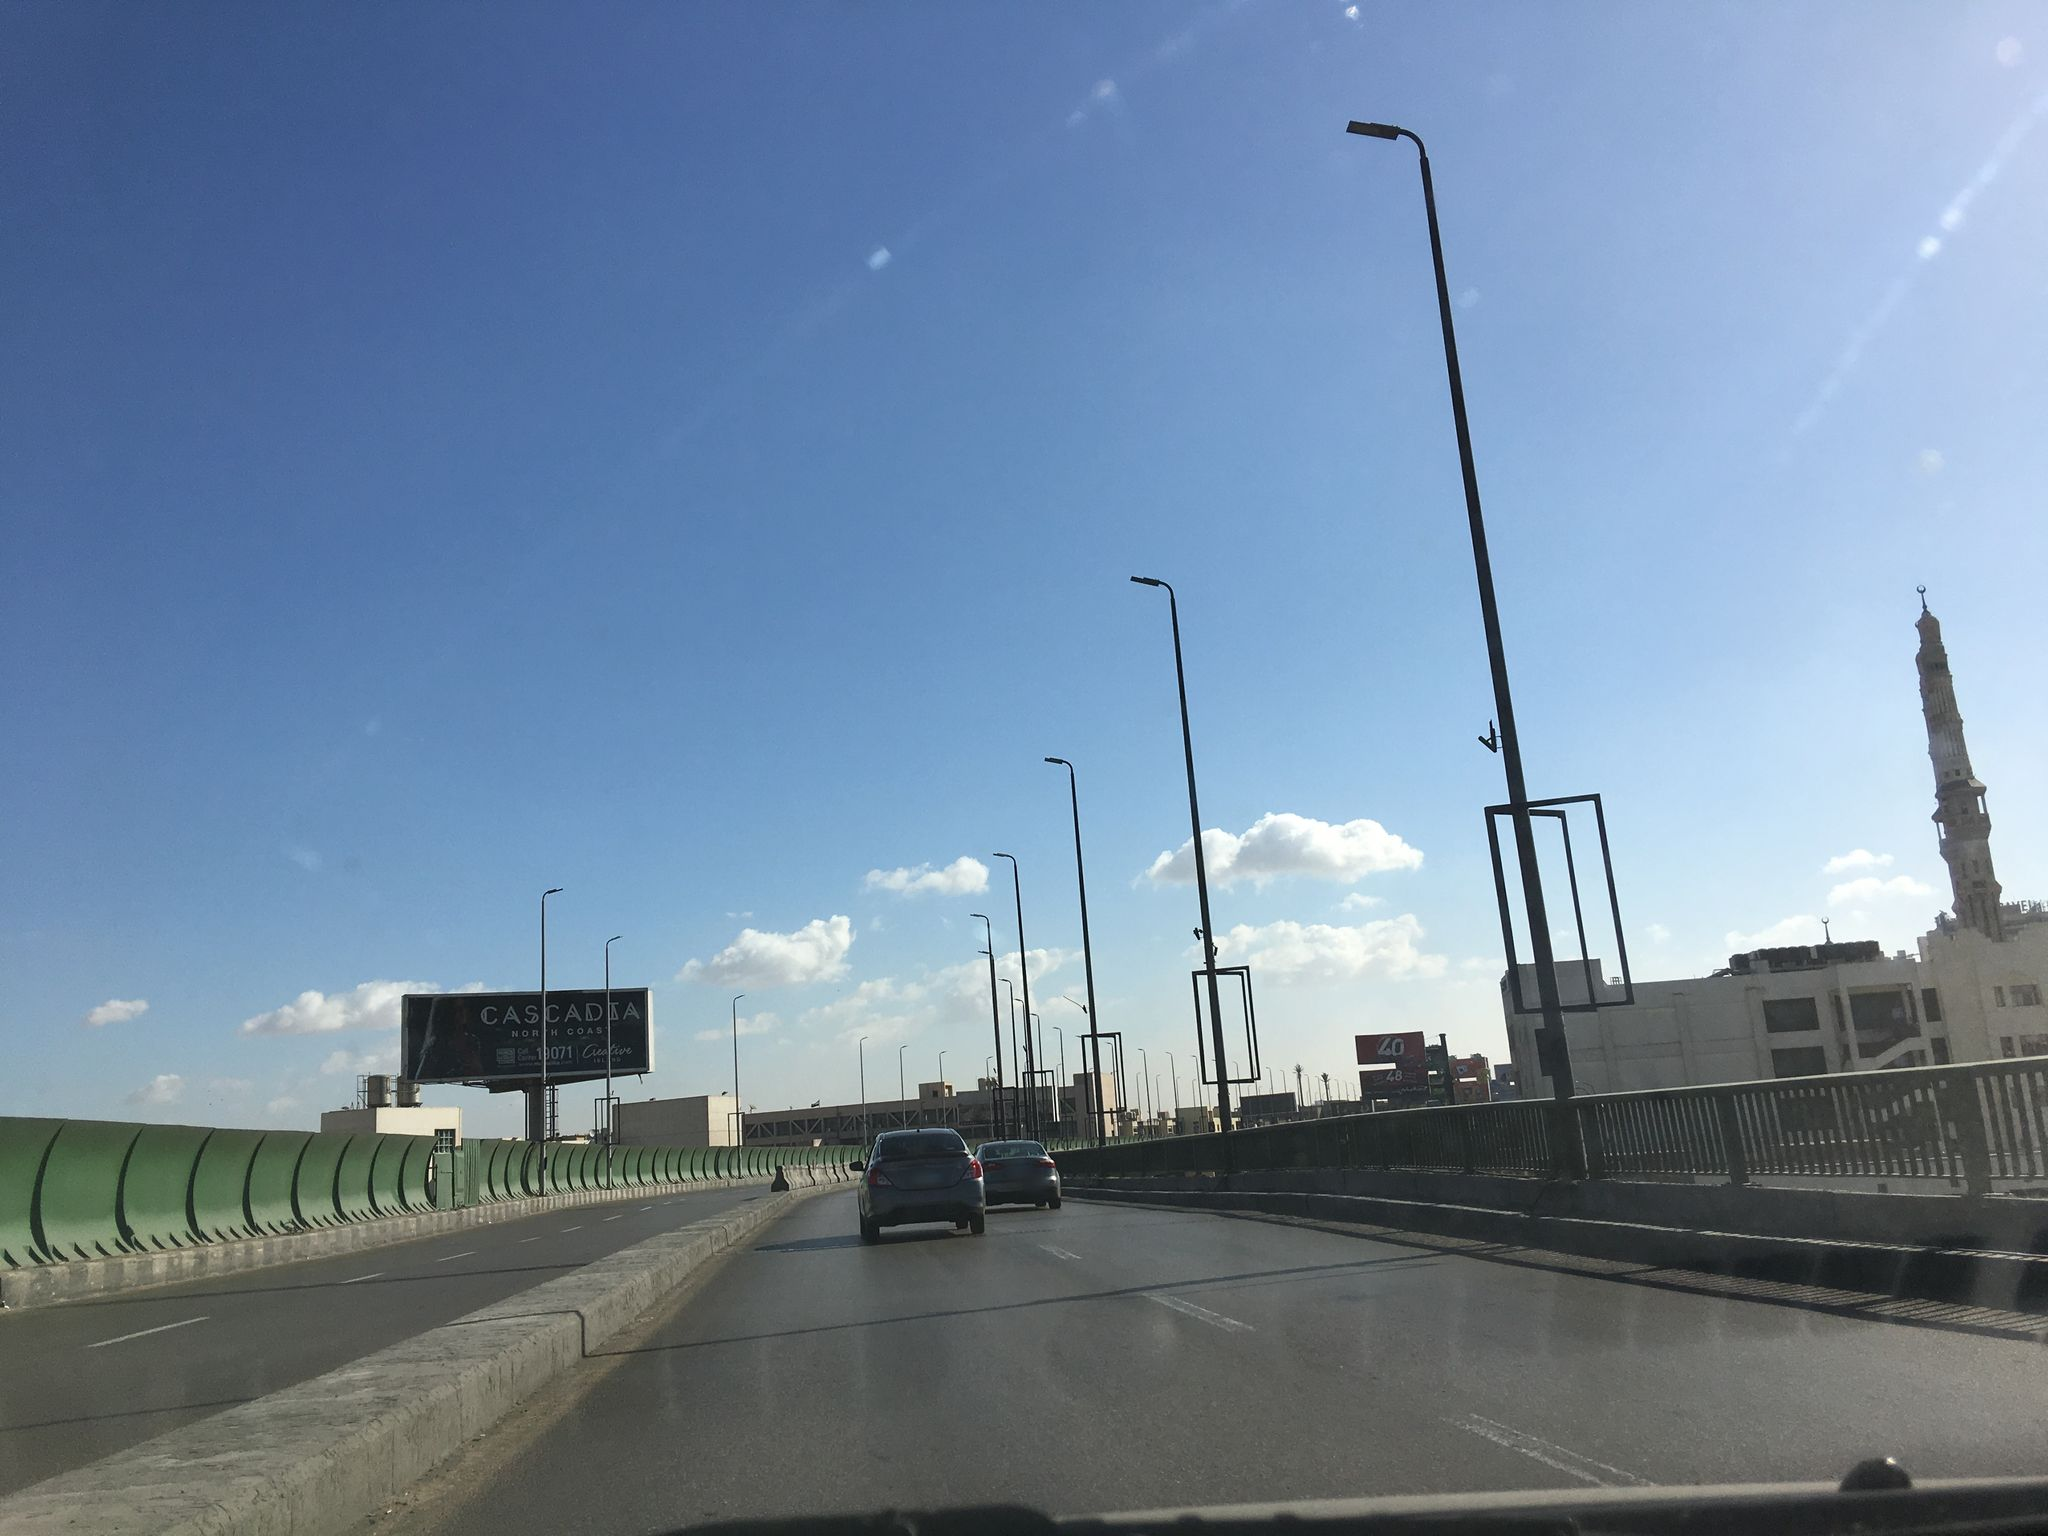car: (848, 1128, 985, 1241), (971, 1141, 1063, 1208)
